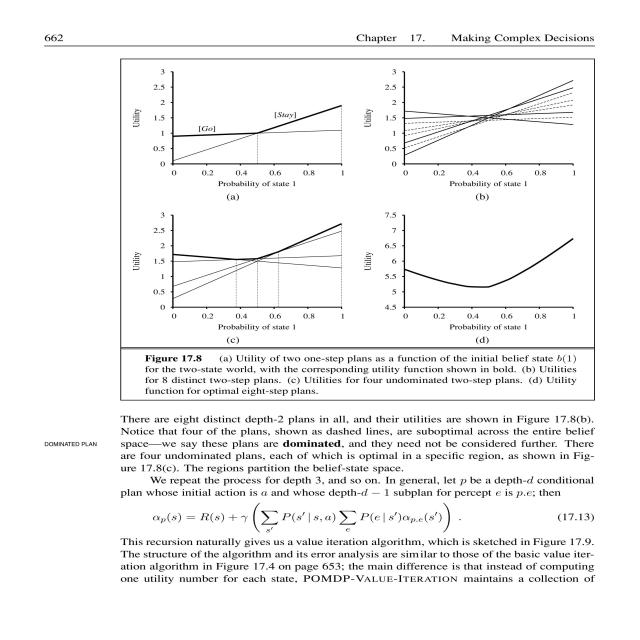diagram: (88, 52, 594, 402)
